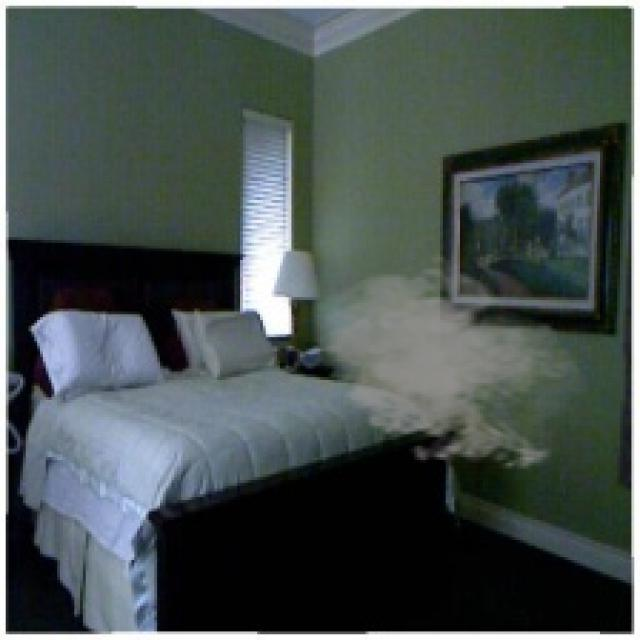smoke: (314, 252, 589, 474)
